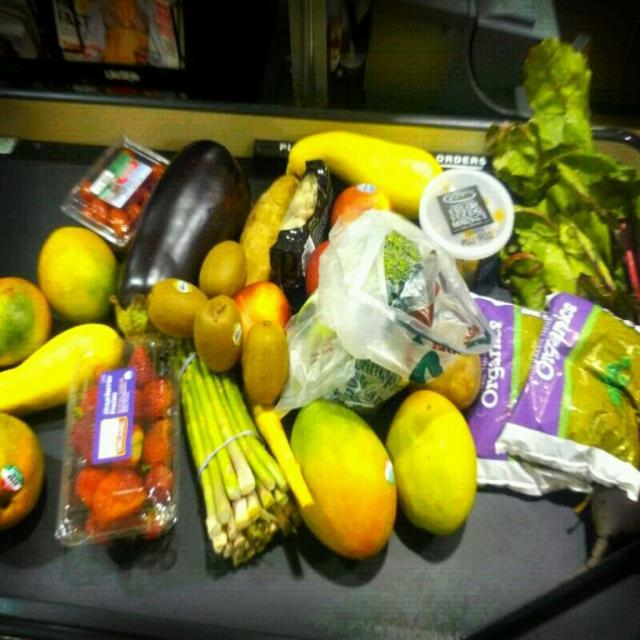Lemon: (291, 404, 396, 564), (389, 393, 478, 535), (37, 229, 111, 319)
